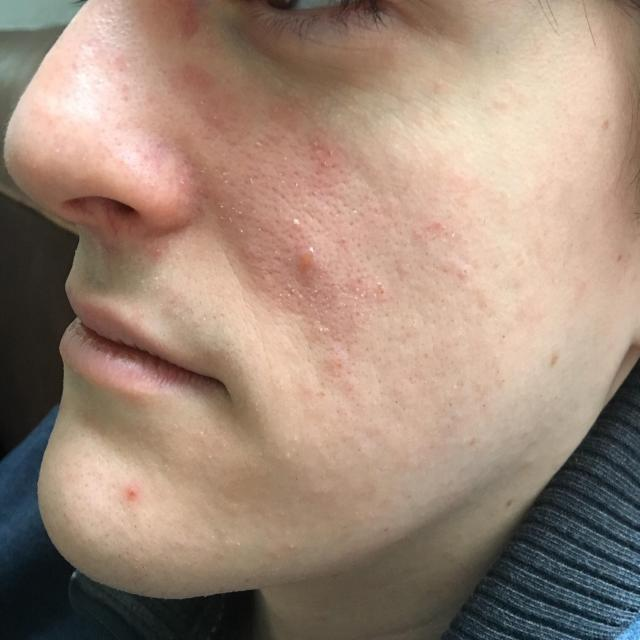Acne: (111, 460, 164, 520), (280, 230, 331, 290)
